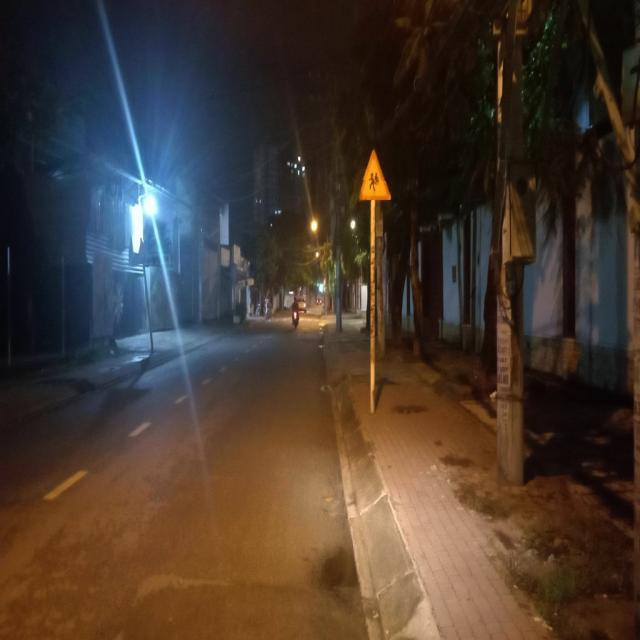225-chu-y-tre-em: (358, 148, 390, 201)
